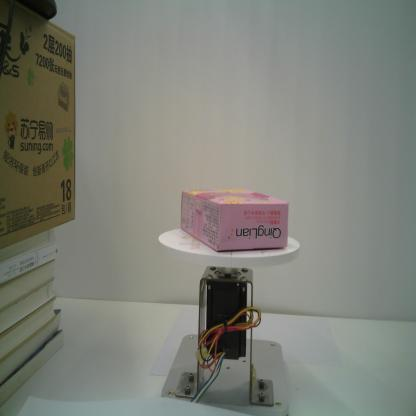Dessert: (180, 186, 290, 252)
